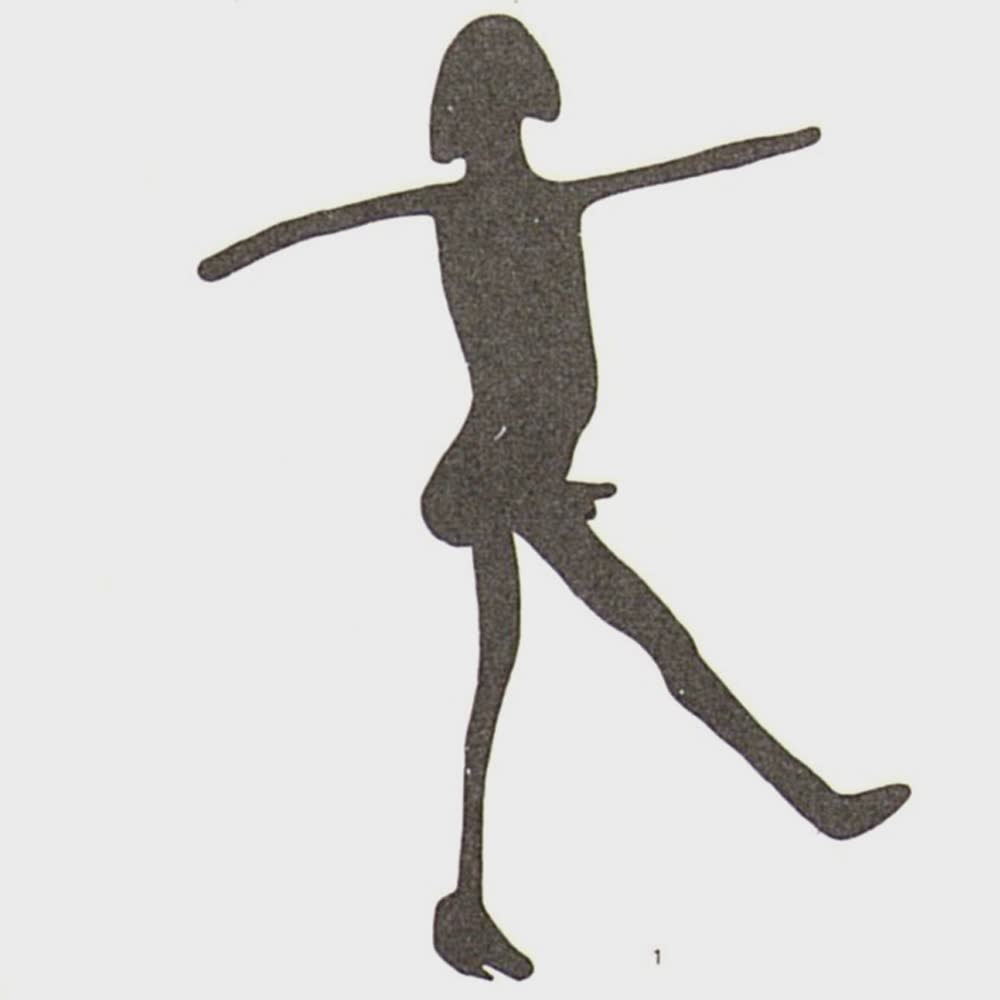man: (190, 10, 917, 988)
